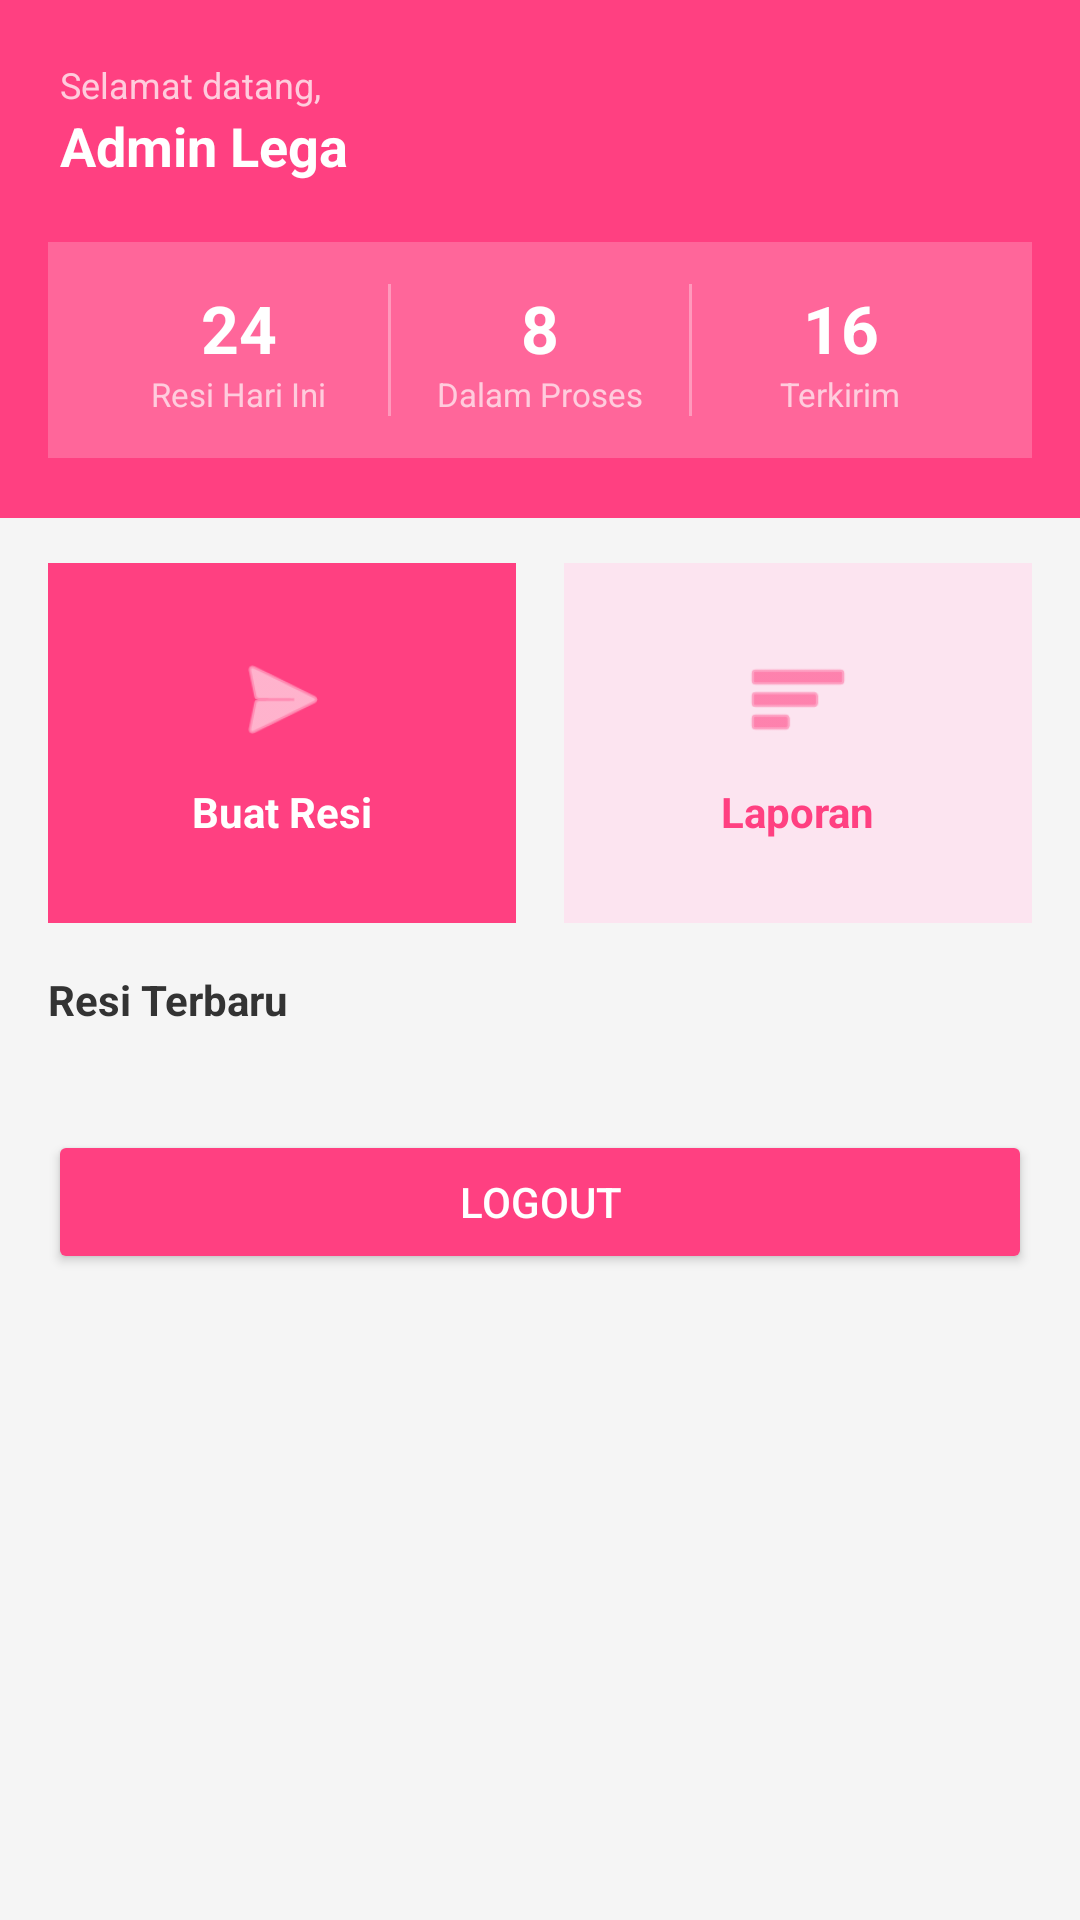

Icons on this 1080 x 1920 Android screen, each with its box as box=[x1, y1, x2, y2]:
send: box=[248, 665, 317, 734]
sort by size: box=[752, 669, 844, 730]
